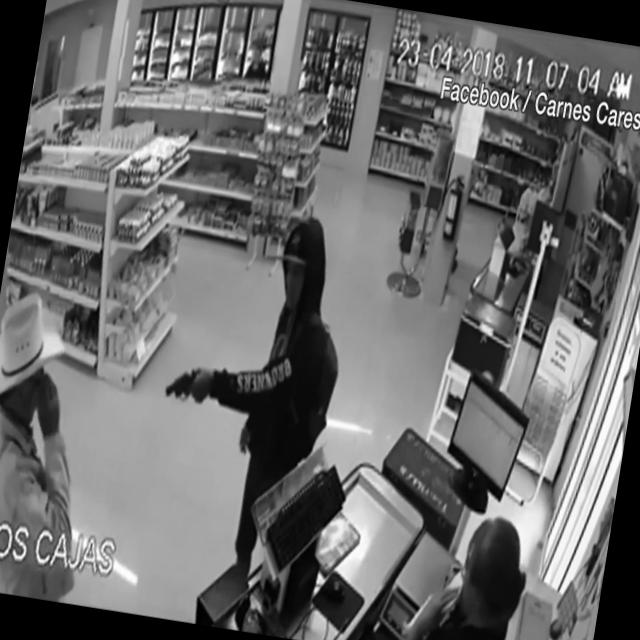gun: (163, 359, 216, 408)
person: (0, 285, 69, 462), (430, 510, 518, 639)
person with a gun: (139, 202, 359, 570)
